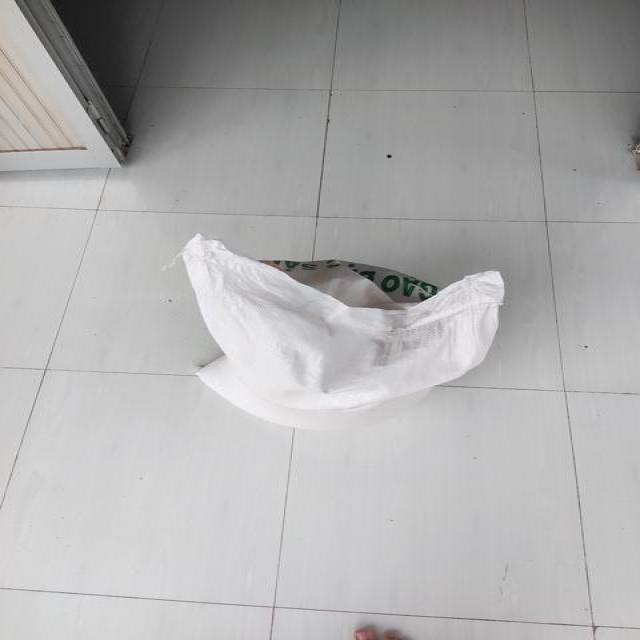gunny_bag: (180, 234, 505, 430)
